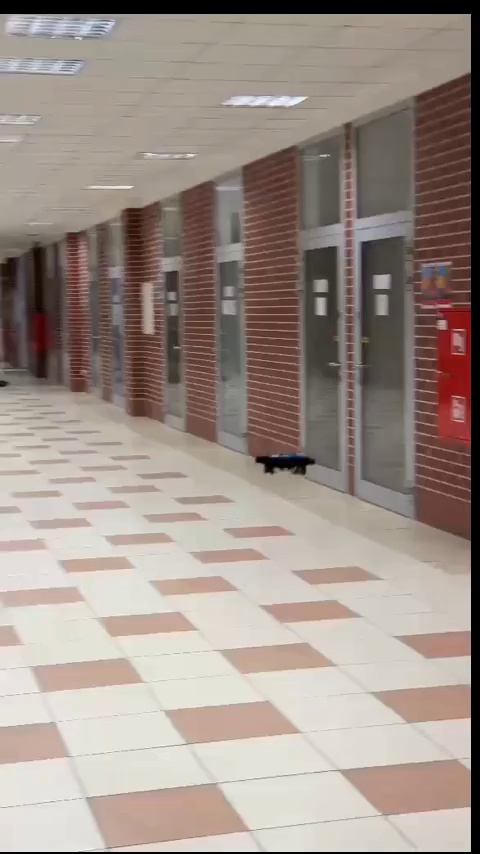drone: (254, 449, 319, 478)
